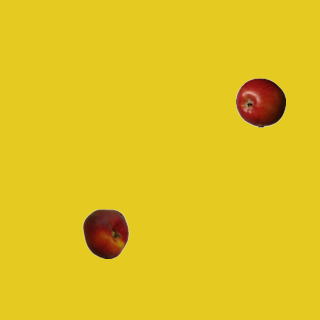Apple Braeburn: (235, 77, 285, 127)
Nectarine Flat: (80, 208, 130, 258)
